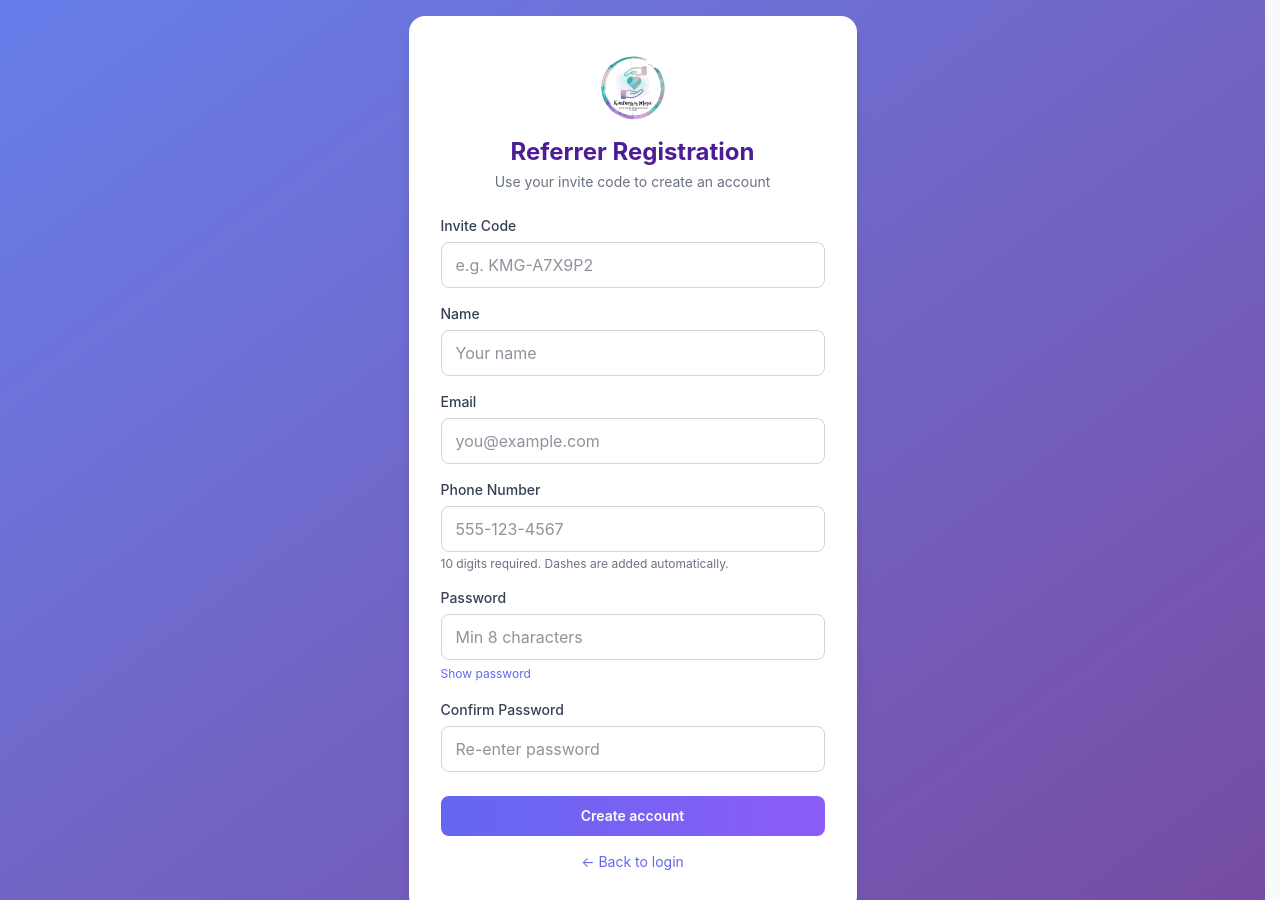
ReferrerSelfRegister › shows error when passwords do not match
Type "KMG-TEST1" into the field labelled "Invite Code" at {"x": 632, "y": 265}, box [440,242,824,288]
Type "Test Referrer" into the field labelled "Name" at {"x": 632, "y": 353}, box [440,330,824,376]
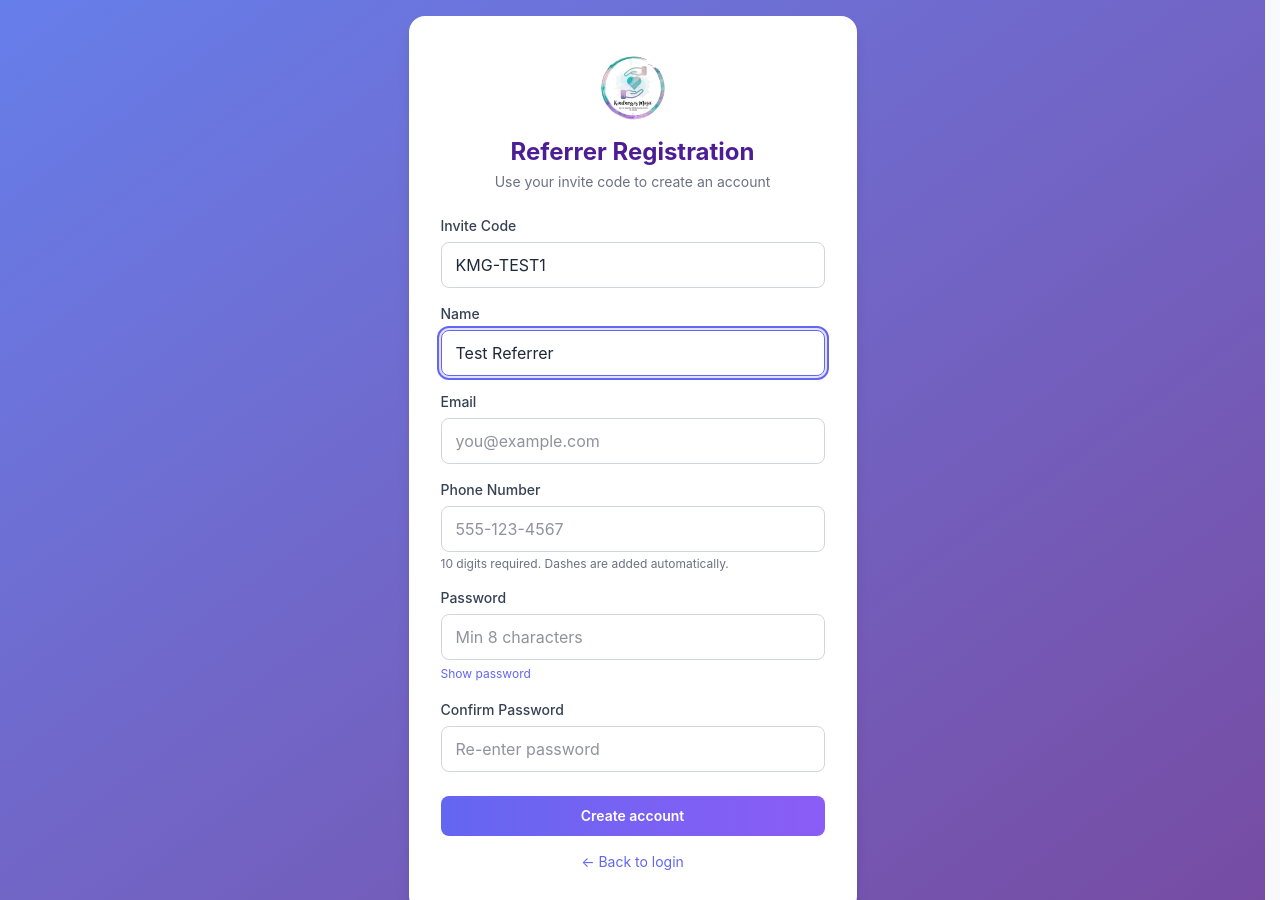
Type "test@example.com" into the field labelled "Email" at {"x": 632, "y": 441}, box [440,418,824,464]
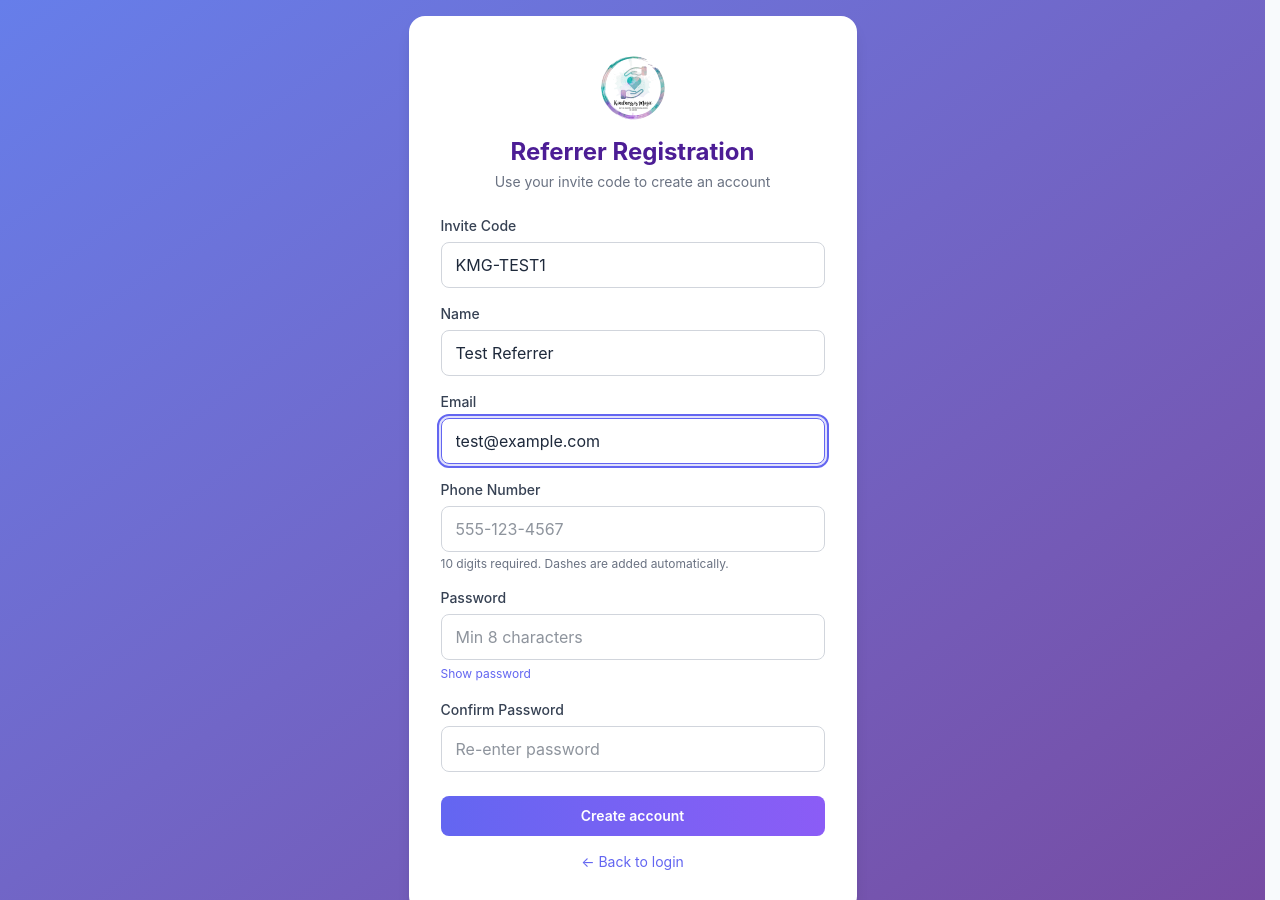
Type "07123 456789" into the field labelled "Phone Number" at {"x": 632, "y": 529}, box [440,506,824,552]
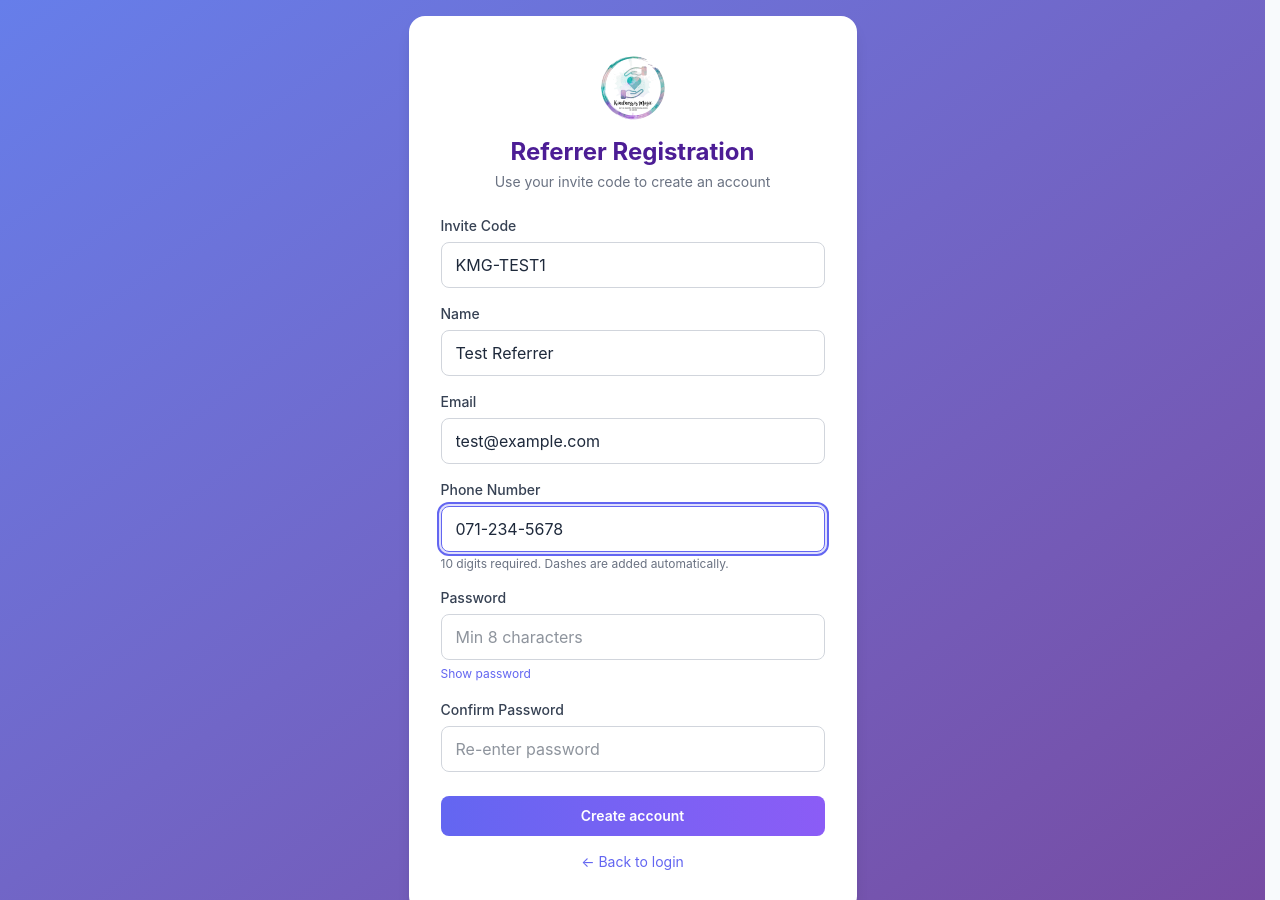
Type "password123" into the password field labelled "Password" at {"x": 632, "y": 637}, box [440,614,824,660]
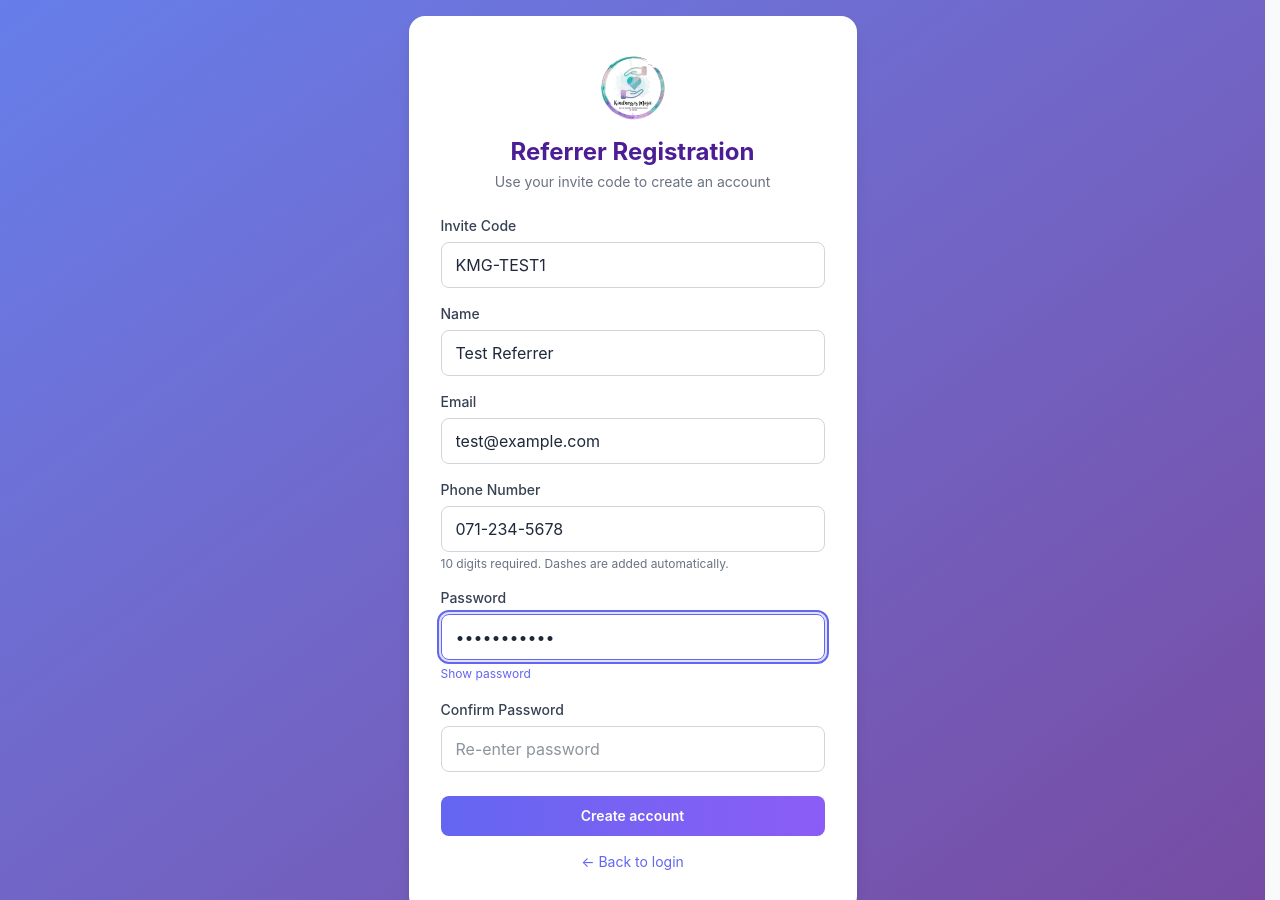
Type "different1" into the password field labelled "Confirm Password" at {"x": 632, "y": 749}, box [440,726,824,772]
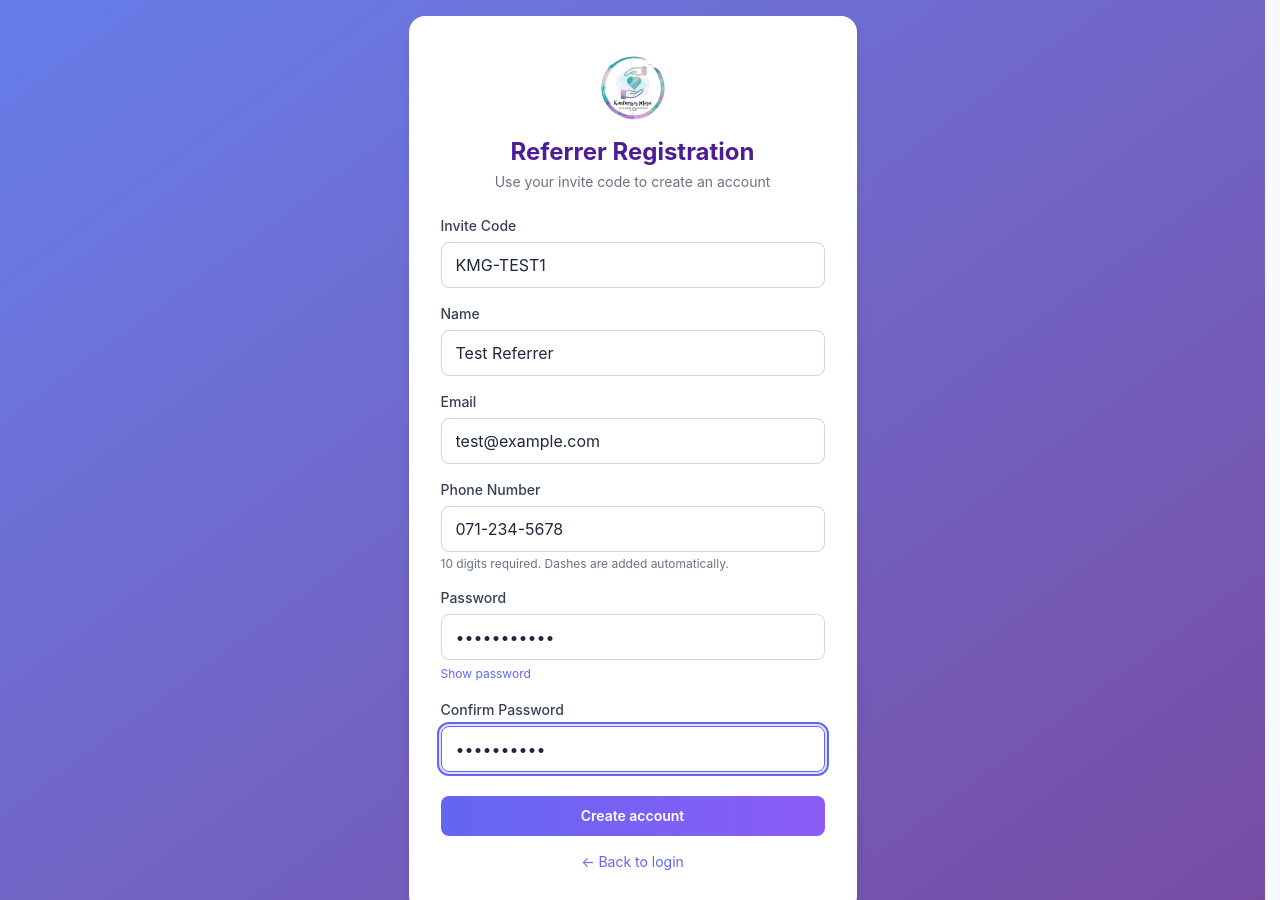
Click the button "Create account" at {"x": 632, "y": 816}, box [440,796,824,836]
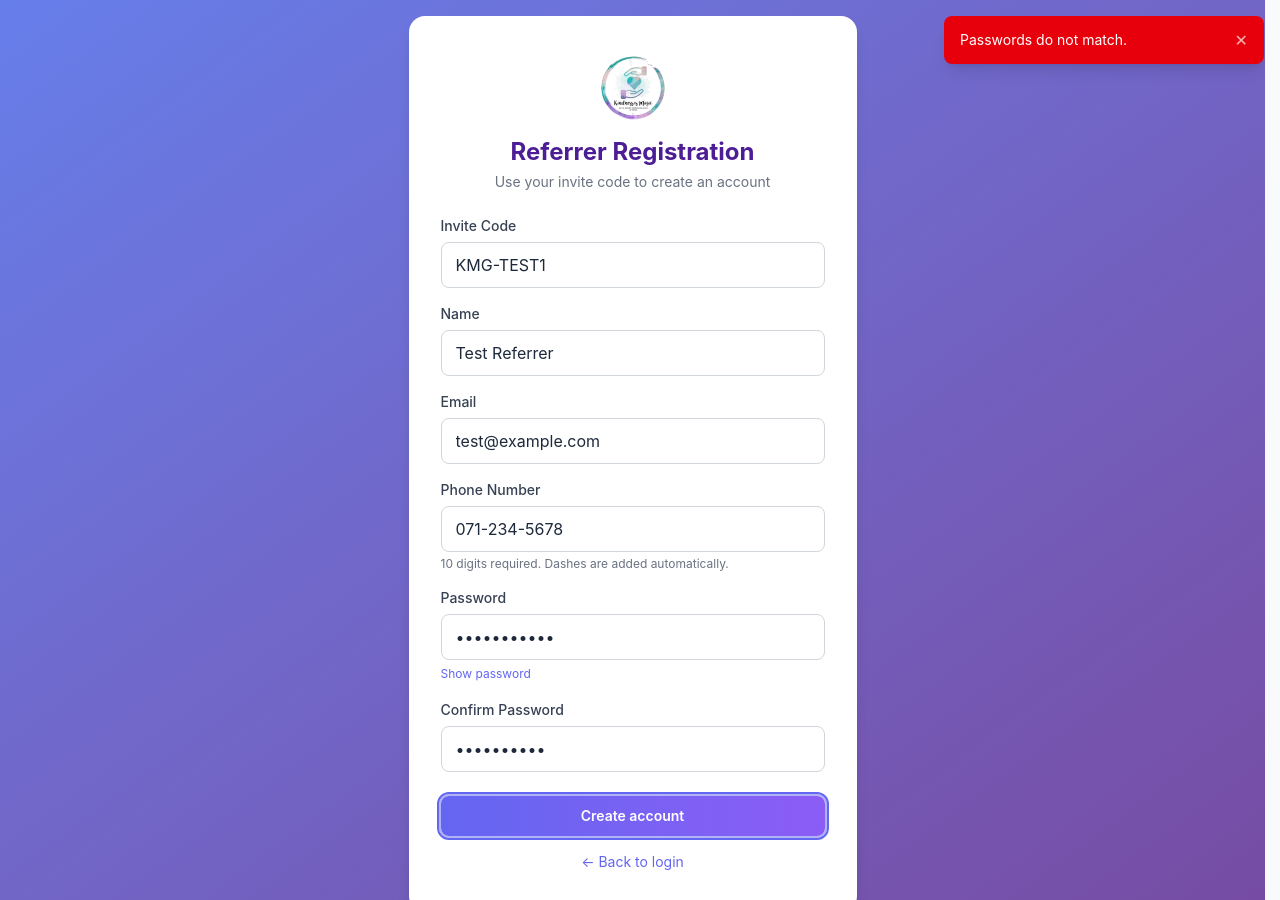
Result: the text "Passwords do not match." is shown at [960,31,1127,48]
